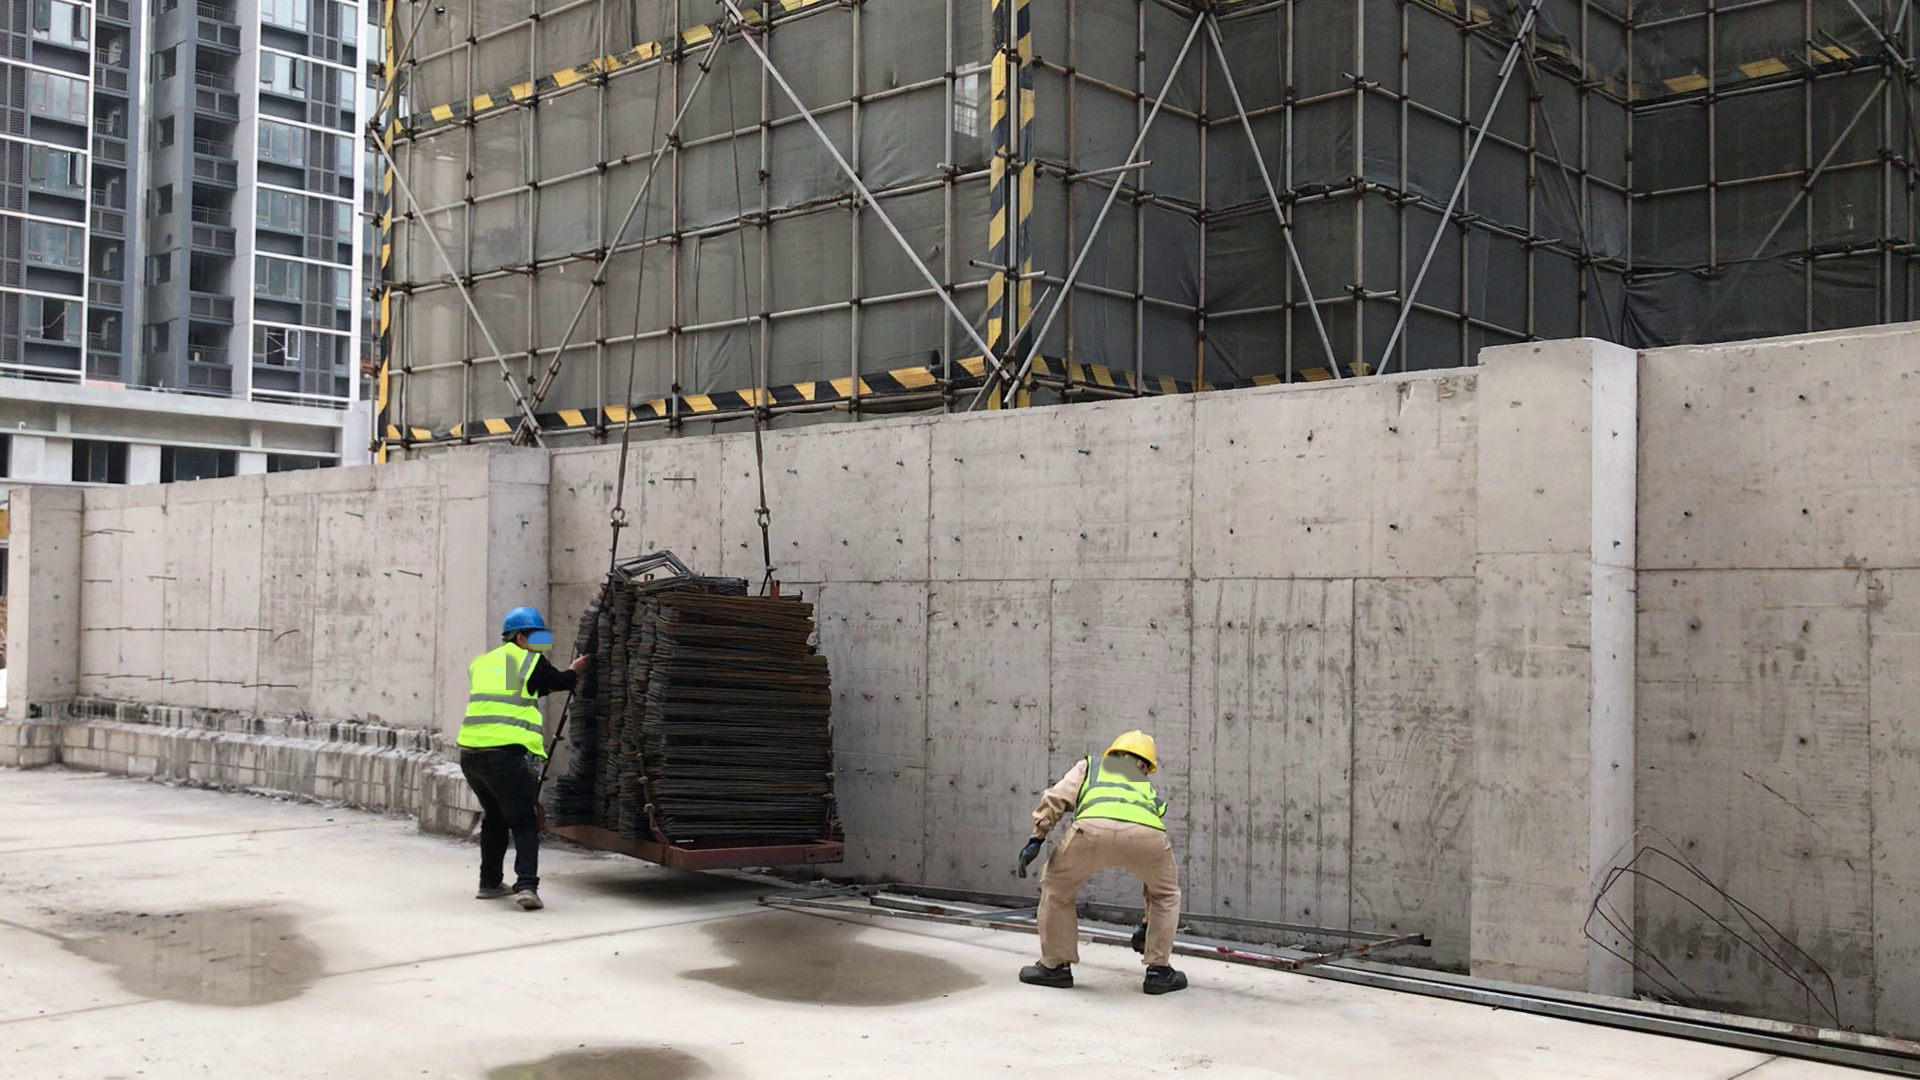helmet: (494, 596, 556, 644), (1098, 722, 1165, 765)
person: (1028, 697, 1194, 1000), (475, 598, 567, 916)
vest: (460, 653, 548, 755), (1071, 741, 1165, 834)
